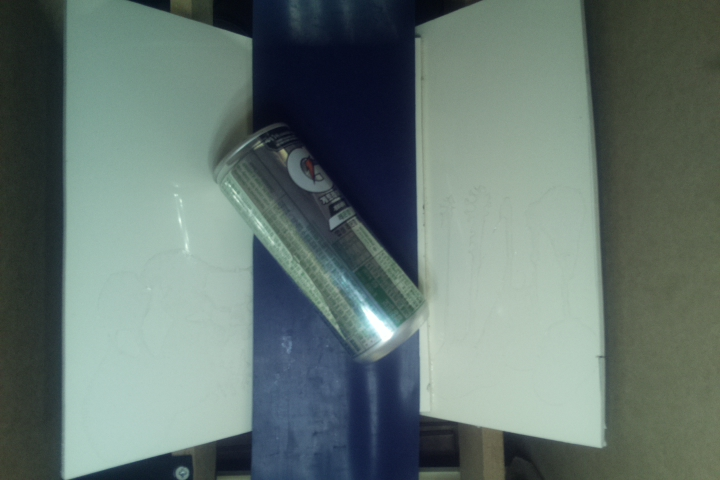can: (209, 118, 435, 362)
